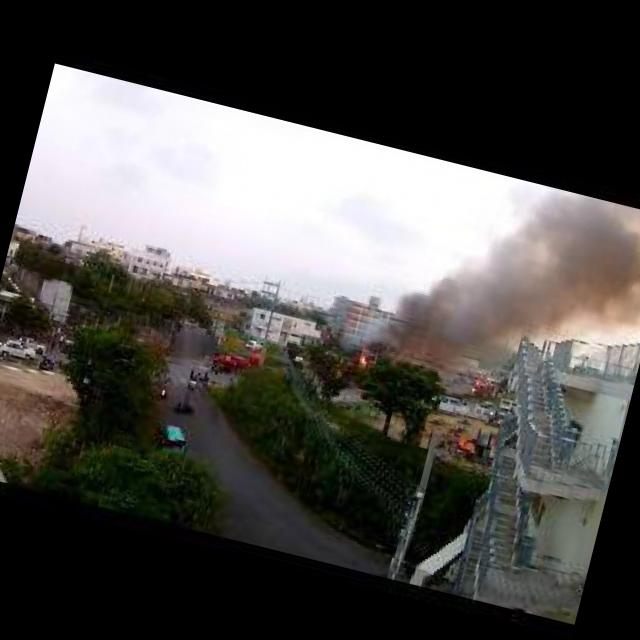fire: (356, 355, 367, 364)
smoke: (483, 178, 640, 353), (374, 260, 512, 398)
